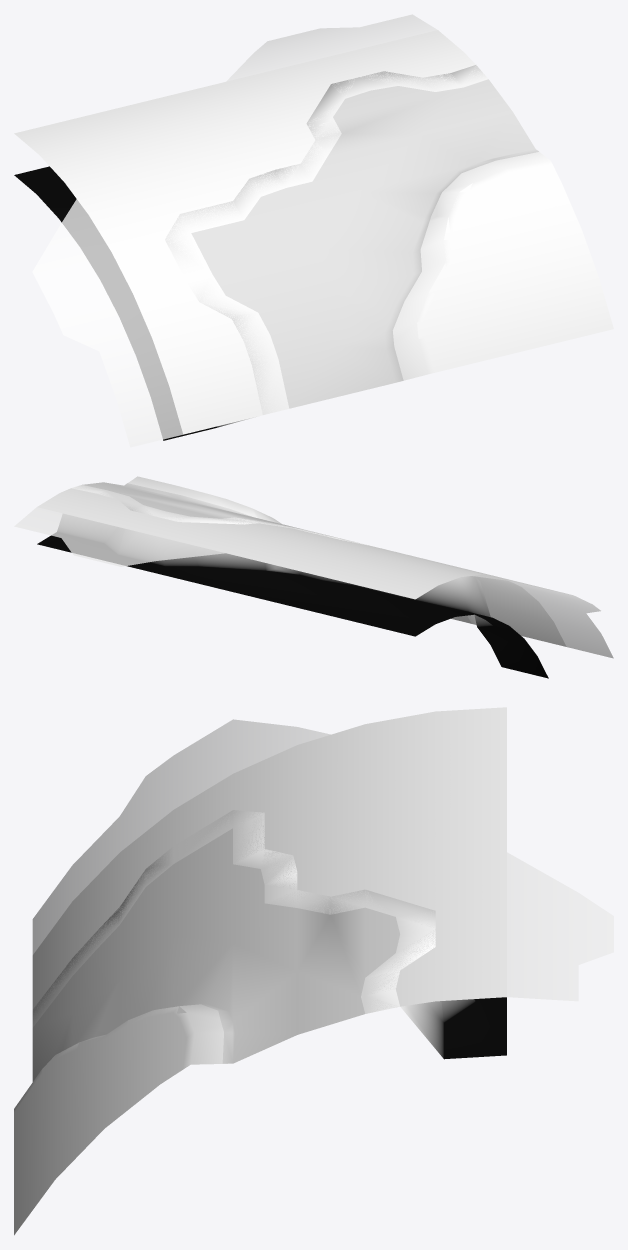
Rendered from grd_Inw_2.dae.
3 views of the same model, one above another, from view 1: azimuth 30°, elevation 25°; view 2: azimuth 150°, elevation 25°; view 3: azimuth 270°, elevation 25° (orthographic). The views are drawn at different scales.
Parts seen in each view (by area): view 1: ocean_4_0, beach_0_0, wave_5_0, grass_3_0, beach_1_0, beach_cliff_2_0; view 2: beach_1_0, ocean_4_0, wave_5_0, beach_0_0, beach_cliff_2_0; view 3: ocean_4_0, beach_0_0, wave_5_0, beach_1_0, grass_3_0, beach_cliff_2_0.
Part boxes in pixels (left/top/right/bottom): ocean_4_0: left=14, top=30, right=486, bottom=434; beach_0_0: left=191, top=79, right=538, bottom=408; wave_5_0: left=32, top=14, right=473, bottom=447; grass_3_0: left=417, top=166, right=613, bottom=372; beach_1_0: left=14, top=65, right=488, bottom=440; beach_cliff_2_0: left=392, top=152, right=553, bottom=380; beach_1_0: left=37, top=485, right=548, bottom=678; ocean_4_0: left=37, top=485, right=565, bottom=646; wave_5_0: left=14, top=489, right=613, bottom=658; beach_0_0: left=82, top=482, right=471, bottom=623; beach_cliff_2_0: left=128, top=476, right=281, bottom=523; ocean_4_0: left=32, top=707, right=506, bottom=1026; beach_0_0: left=32, top=828, right=399, bottom=1081; wave_5_0: left=32, top=719, right=613, bottom=1011; beach_1_0: left=32, top=810, right=506, bottom=1059; grass_3_0: left=14, top=1006, right=186, bottom=1235; beach_cliff_2_0: left=14, top=1004, right=227, bottom=1112.
Bounding box in the file's own units: 608 × 228 × 448.
6 materials, 1 textured.
